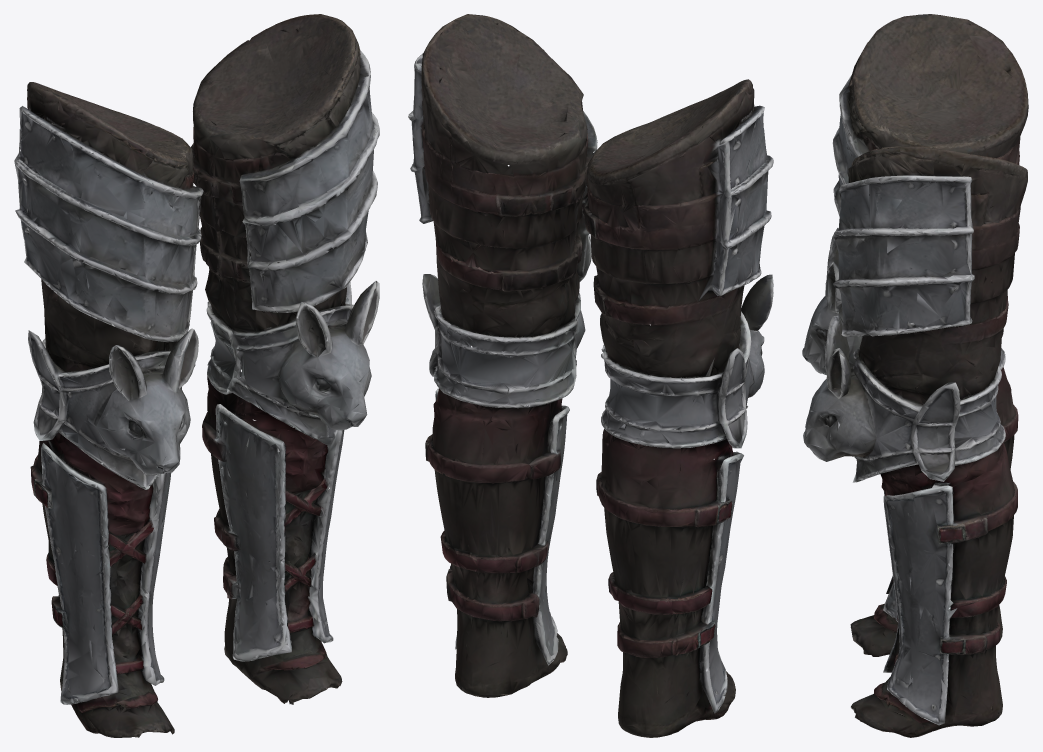
File: eq_leg.glb
3 views of the same model, side by side, from view 1: azimuth 30°, elevation 25°; view 2: azimuth 150°, elevation 25°; view 3: azimuth 270°, elevation 25° (orthographic). The views are drawn at different scales.
Parts seen in each view (by area): view 1: tripo_node_ee4c5a79-37aa-4eff-831d-8627d2e4ca92; view 2: tripo_node_ee4c5a79-37aa-4eff-831d-8627d2e4ca92; view 3: tripo_node_ee4c5a79-37aa-4eff-831d-8627d2e4ca92.
Boxes of the visible parts, <box> form: tripo_node_ee4c5a79-37aa-4eff-831d-8627d2e4ca92: <box>14,14,379,737</box>; tripo_node_ee4c5a79-37aa-4eff-831d-8627d2e4ca92: <box>408,14,773,737</box>; tripo_node_ee4c5a79-37aa-4eff-831d-8627d2e4ca92: <box>802,14,1028,737</box>.
Size of the model in its own units: 0.3235 by 0.6 by 0.2042.
Materials: 1 (1 with a texture image).
